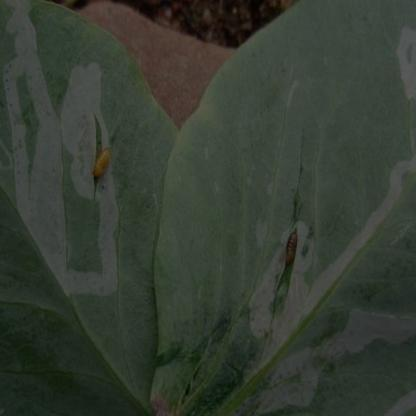whorl-maggot: (280, 224, 304, 275), (90, 138, 112, 188)
